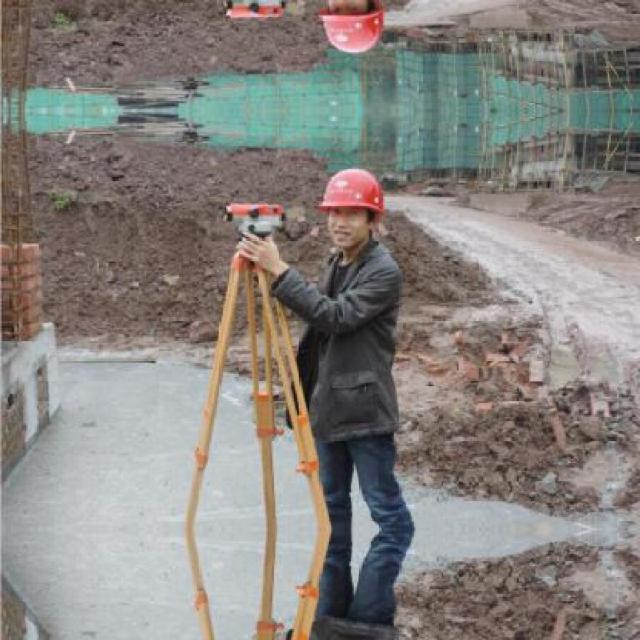safetyhelmet: (314, 158, 392, 260)
